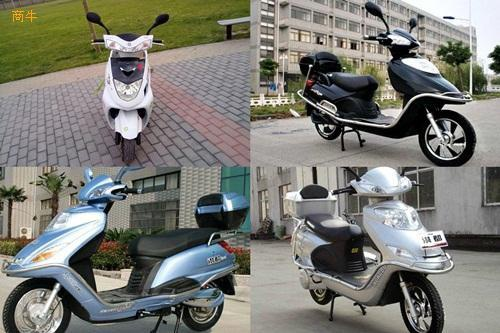non-vehicle: (1, 175, 248, 332), (283, 167, 455, 332), (297, 25, 478, 167), (86, 19, 166, 166)
